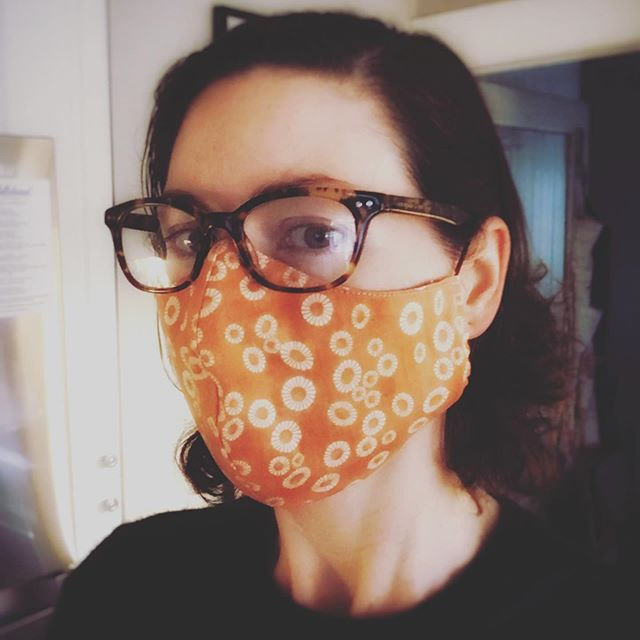homemade: (139, 258, 468, 498)
